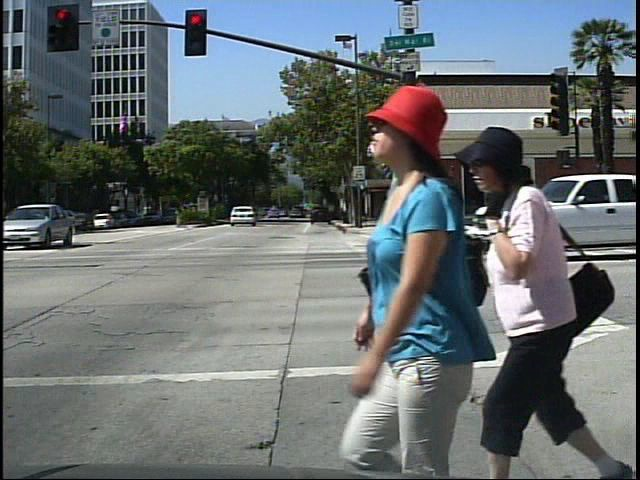person: (329, 66, 498, 479), (468, 117, 608, 480)
